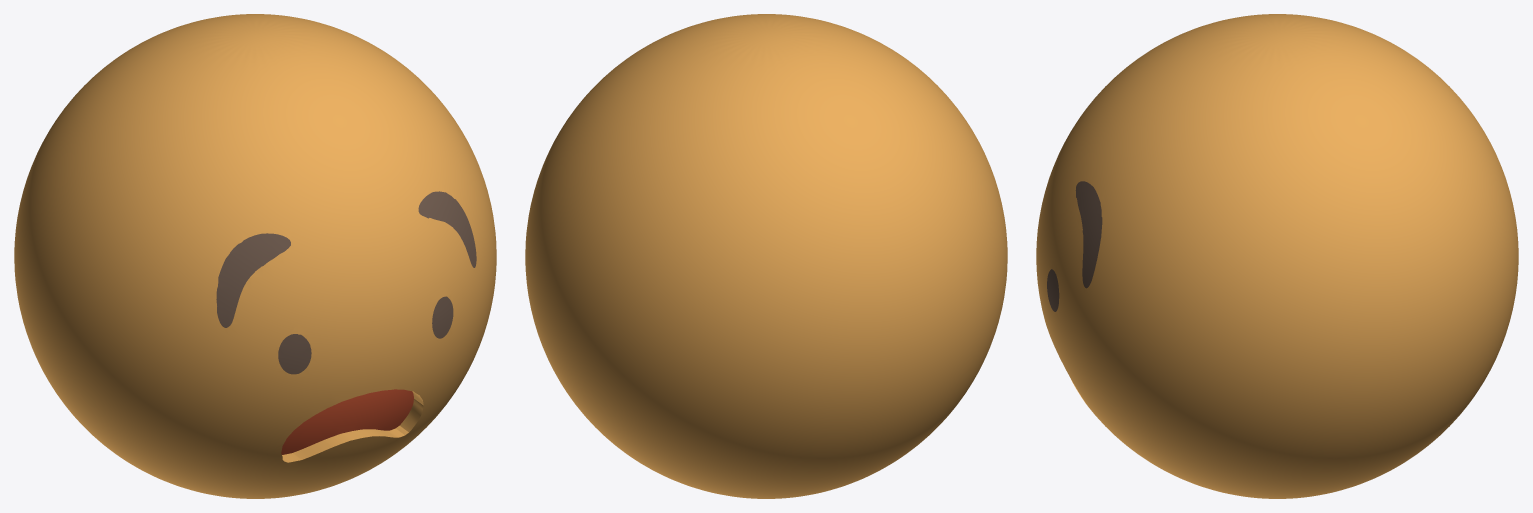
The model's file is scared.fbx.
3 views of the same model, side by side, from view 1: azimuth 30°, elevation 25°; view 2: azimuth 150°, elevation 25°; view 3: azimuth 270°, elevation 25° (orthographic).
Visible parts, largest first — view 1: Sphere.011; view 2: Sphere.011; view 3: Sphere.011.
Part boxes in pixels (<box>): Sphere.011: <box>14,14,496,498</box>; Sphere.011: <box>525,14,1007,498</box>; Sphere.011: <box>1036,14,1518,498</box>.
Bounding box in the file's own units: 197 × 200 × 197.
